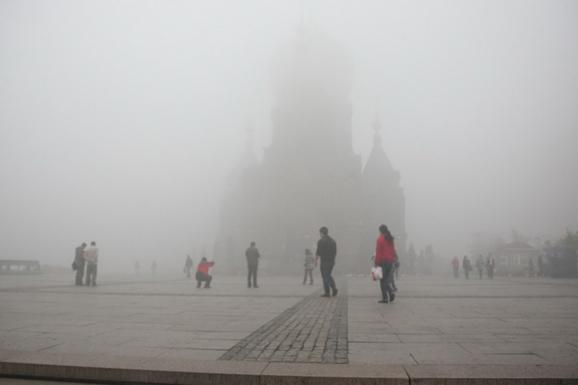person: (374, 223, 398, 304), (314, 226, 339, 298), (378, 228, 400, 292), (244, 241, 261, 288), (83, 241, 99, 287), (194, 256, 215, 289), (74, 242, 88, 286), (301, 248, 315, 285), (462, 255, 474, 280), (475, 254, 486, 280), (485, 252, 495, 280), (184, 254, 194, 279), (451, 256, 460, 278)
